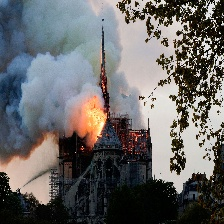fire: (84, 103, 107, 137)
smoke: (1, 1, 143, 161)
